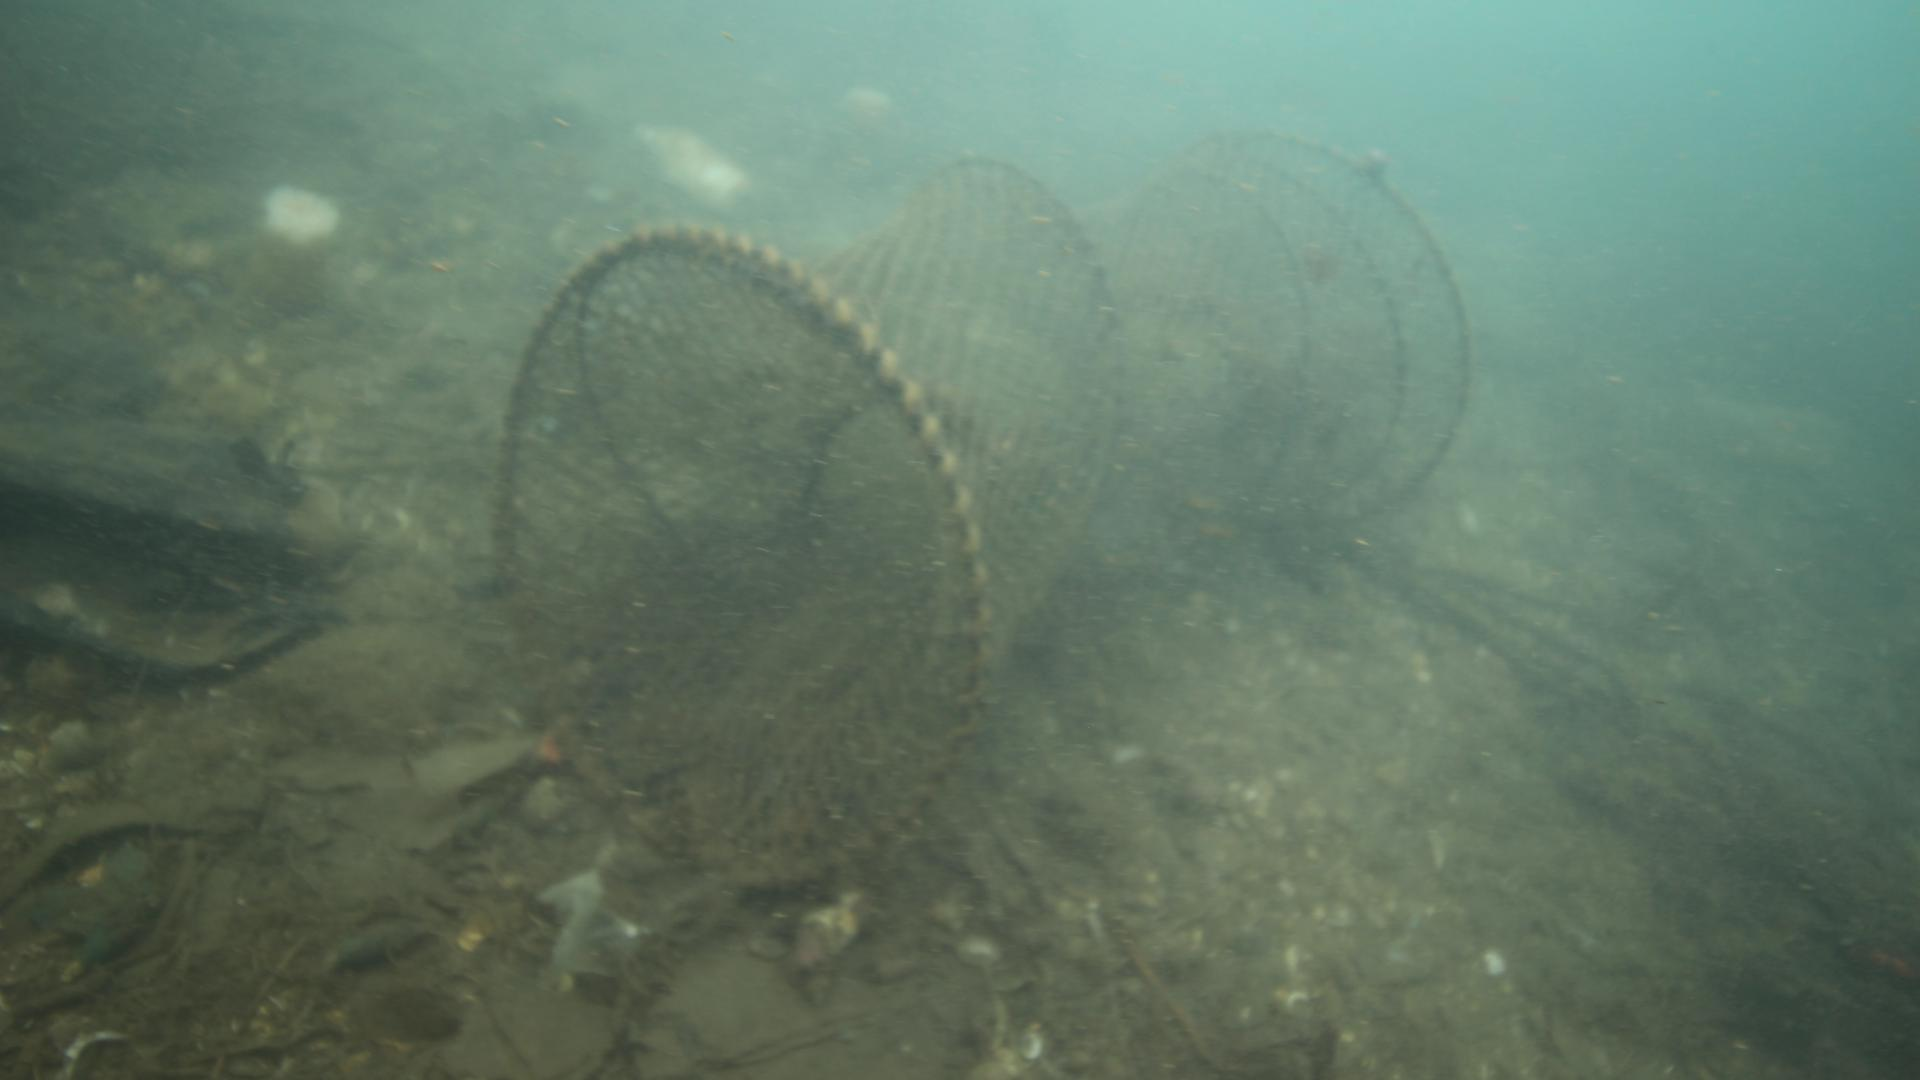spring fish trap: (492, 127, 1472, 894)
